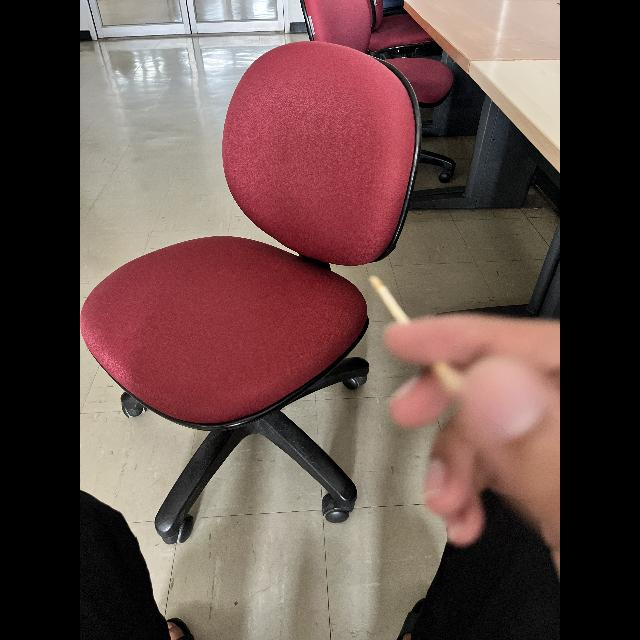stick: (364, 268, 458, 384)
